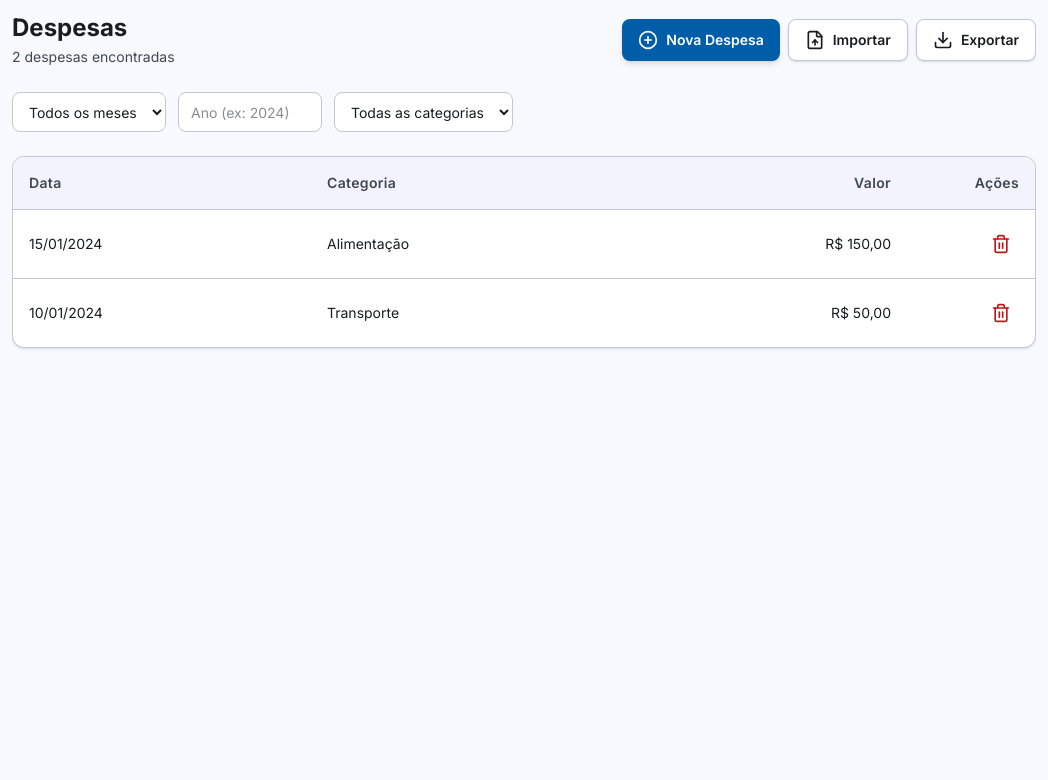
Scenario: ExpensesPage › deletes expense optimistically (row gone before API confirms) and shows success toast
Click the button named "excluir despesa de alimentação": x=1001, y=244 [983,226,1019,262]
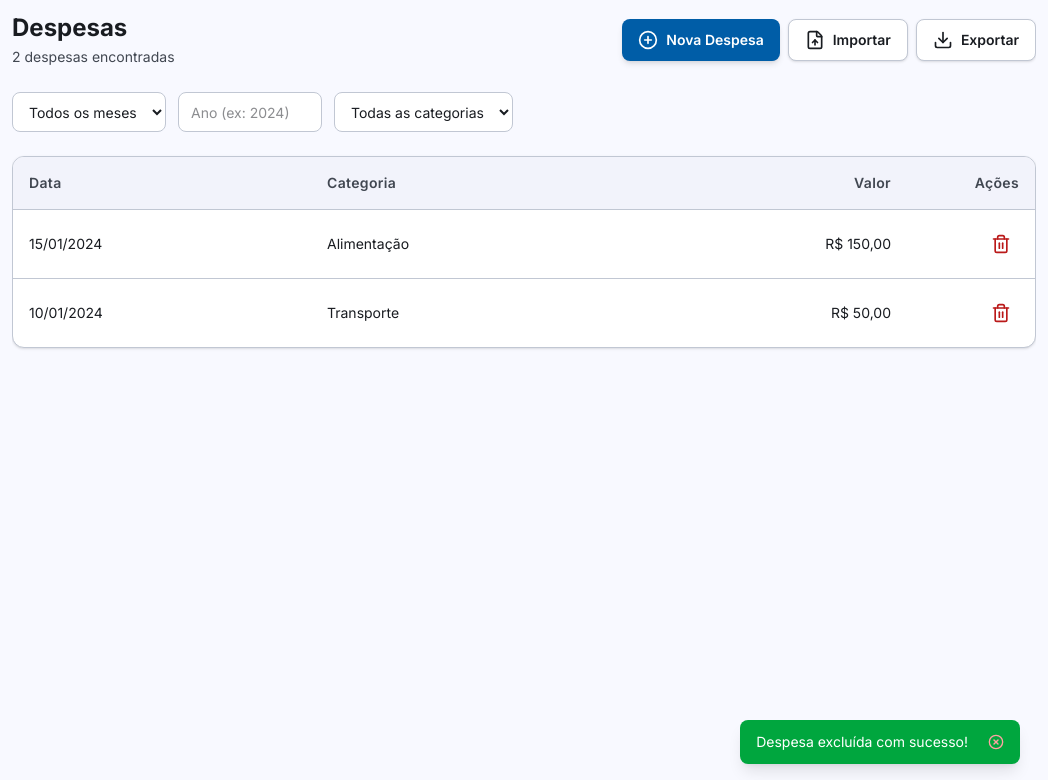
Expected: the message reads "Despesa excluída com sucesso!", [756,733,968,750]
